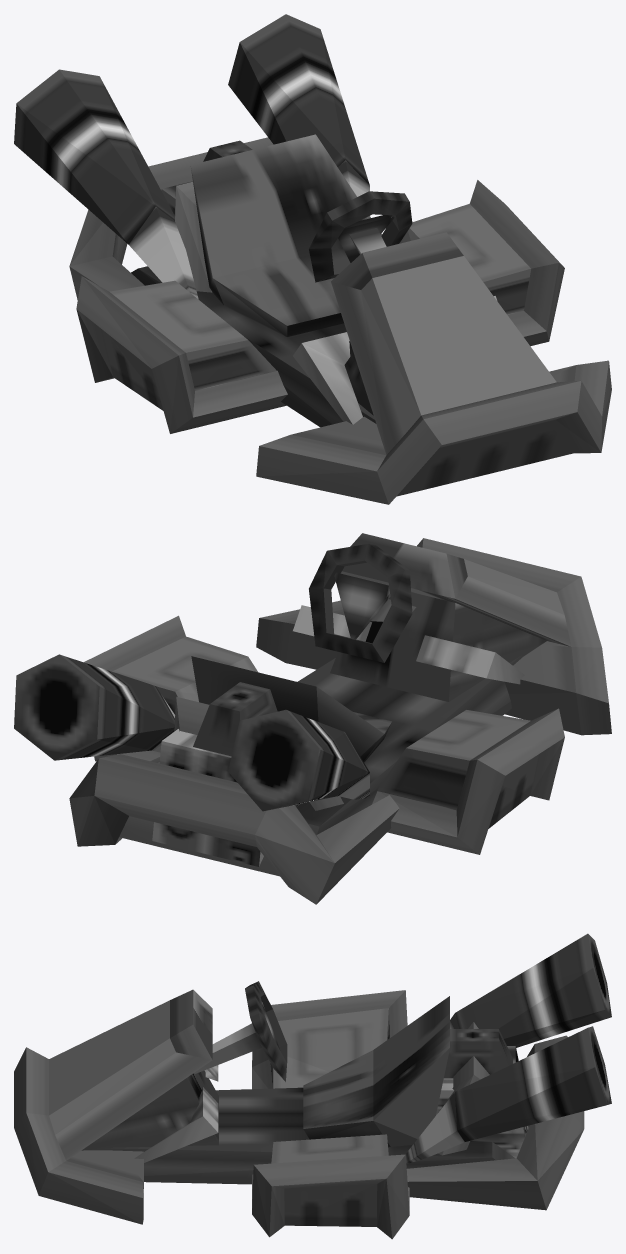
Rendered from body_std_lod_mtl.obj.
The picture shows the model from 3 angles, top to bottom: view 1: azimuth 30°, elevation 25°; view 2: azimuth 150°, elevation 25°; view 3: azimuth 270°, elevation 25°; orthographic projection. The views are drawn at different scales.
Parts seen in each view (by area): view 1: _0_0_node__0_0; view 2: _0_0_node__0_0; view 3: _0_0_node__0_0.
Part boxes in pixels (bbox=[...]): _0_0_node__0_0: bbox=[14, 14, 611, 504]; _0_0_node__0_0: bbox=[14, 533, 611, 904]; _0_0_node__0_0: bbox=[14, 933, 611, 1239].
Size of the model in its own units: 14.34 by 6.76 by 20.33.
